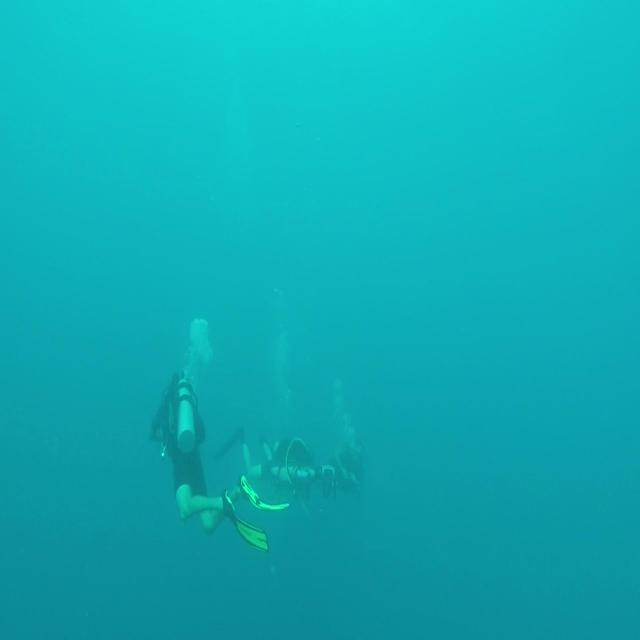human: (149, 369, 269, 553), (214, 424, 364, 511)
